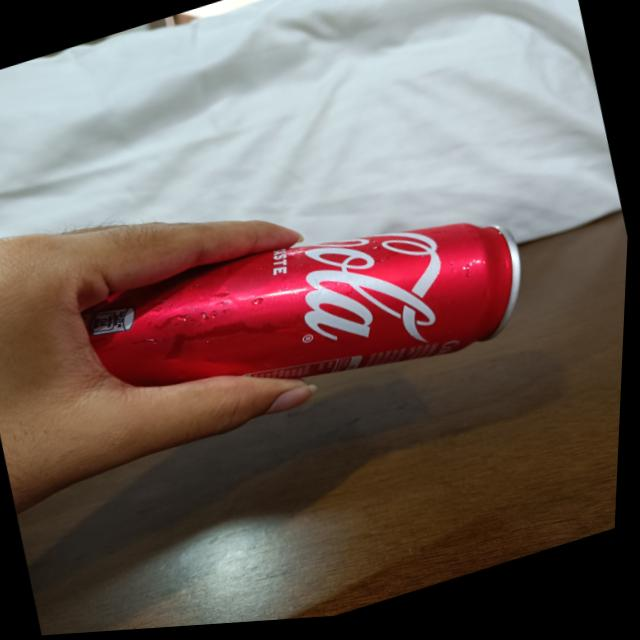coke: (49, 158, 545, 471)
